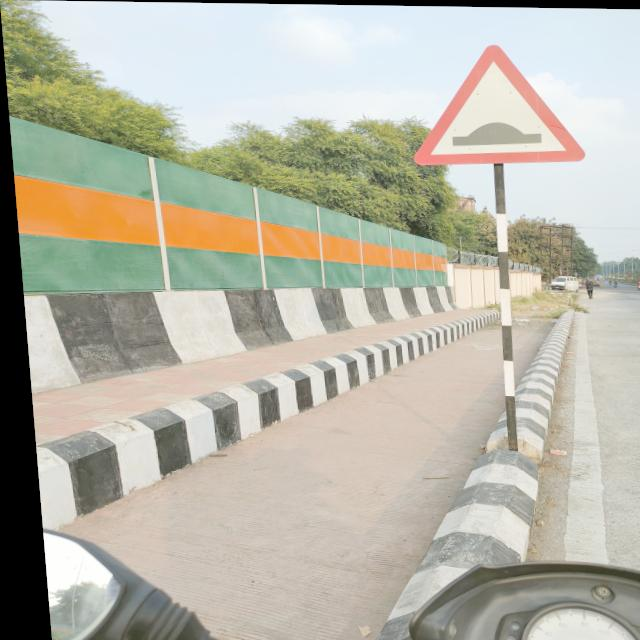BUMPS: (398, 44, 591, 169)
